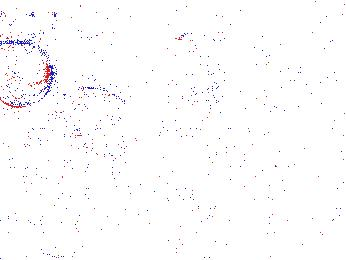moon jellyfish: (190, 41, 283, 110), (57, 88, 139, 158), (115, 39, 209, 93), (1, 47, 54, 107)
